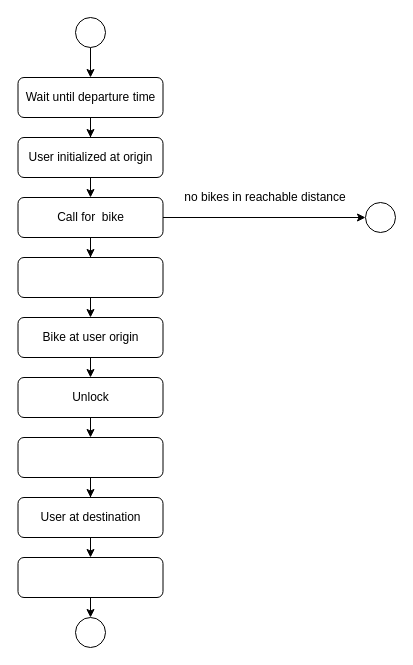
This 413x665 diagram has some shape labels left out. The centre of each missing label's shape, as x and y in pixels:
"Lock" goes at (90,577).
"Ride" goes at (90,457).
"Wait for bike" goes at (90,277).
